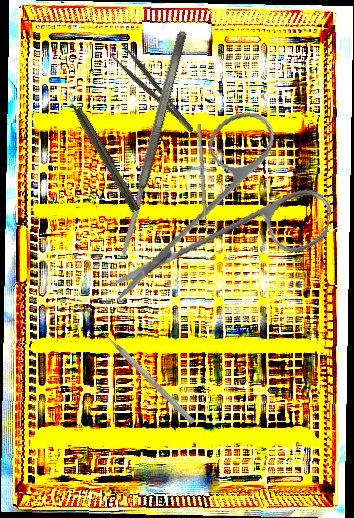Dressing Forceps: (108, 41, 197, 141)
Iris Scissors: (108, 93, 346, 335)
Pusher: (90, 319, 197, 426), (59, 83, 140, 215), (196, 124, 210, 242)
Scalpel Handle: (74, 105, 144, 212)
Spatula Surgical: (115, 29, 190, 260)
